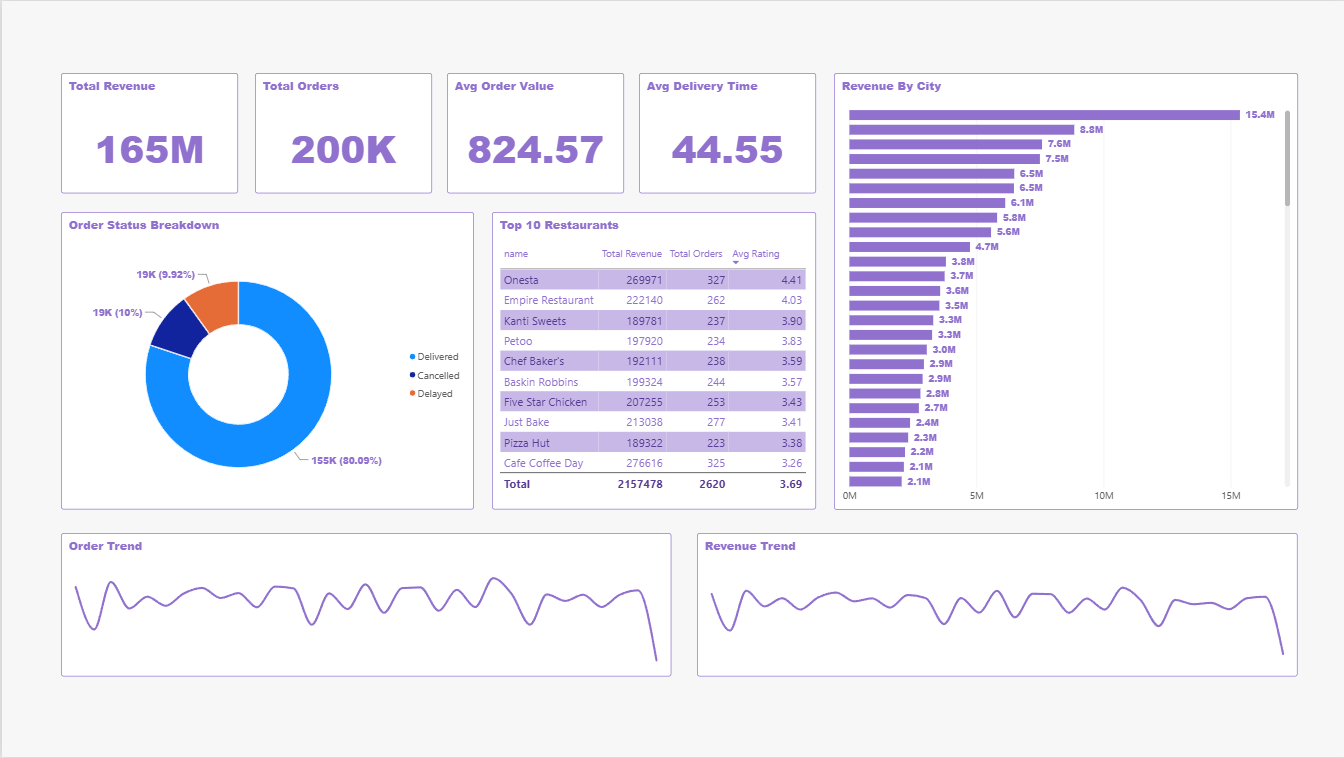

The dashboard page shown, as its layout file describes it:
{"tool":"powerbi","page":{"name":"Executive Overview","canvas":[1920,1080],"ordinal":0},"visuals":[{"type":"card","title":"Total Orders","fields":{"Values":["Orders.Total Orders"]},"box":[361.7,103.3,253.3,171.7],"z":0},{"type":"card","title":"Avg Order Value","fields":{"Values":["Orders.Avg Order Value"]},"box":[635,103.3,253.3,171.7],"z":1000},{"type":"card","title":"Avg Delivery Time","fields":{"Values":["Orders.Avg Delivery Time"]},"box":[910,103.3,253.3,171.7],"z":2000},{"type":"card","title":"Total Revenue","fields":{"Values":["Orders.Total Revenue"]},"box":[85,103.3,253.3,171.7],"z":3000},{"type":"lineChart","title":"Revenue Trend","fields":{"Category":["DateTable.Date.Variation.Date Hierarchy.Year","DateTable.Date.Variation.Date Hierarchy.Month"],"Y":["Orders.Total Revenue"]},"box":[993.3,760,858.3,205],"z":4000},{"type":"lineChart","title":"Order Trend","fields":{"Category":["DateTable.Date.Variation.Date Hierarchy.Year","DateTable.Date.Variation.Date Hierarchy.Month"],"Y":["Orders.Total Orders"]},"box":[85,760,871.7,205],"z":5000},{"type":"clusteredBarChart","title":"Revenue By City","fields":{"Category":["Customers.FilterCity"],"Y":["Orders.Total Revenue"]},"box":[1188.3,103.3,663.3,623.3],"z":6000},{"type":"donutChart","title":"Order Status Breakdown","fields":{"Category":["Orders.OrderStatus"],"Y":["Orders.Total Orders"]},"box":[85,301.7,590,425],"z":7000},{"type":"tableEx","title":"Top 10 Restaurants","fields":{"Values":["Restaurants.name","Orders.Total Revenue","Orders.Total Orders","Orders.Avg Rating"]},"box":[700,301.7,463.3,425],"z":8000}]}

Visuals, with their boxes in screenshot pixels (x1, y1, x2, y2), scaled from the page's 1920x1080 canvas onto the 1344x758 screenshot:
"Total Orders" card: 253:73:430:193
"Avg Order Value" card: 444:73:622:193
"Avg Delivery Time" card: 637:73:814:193
"Total Revenue" card: 59:73:237:193
"Revenue Trend" lineChart: 695:533:1296:677
"Order Trend" lineChart: 59:533:670:677
"Revenue By City" clusteredBarChart: 832:73:1296:510
"Order Status Breakdown" donutChart: 59:212:472:510
"Top 10 Restaurants" tableEx: 490:212:814:510
